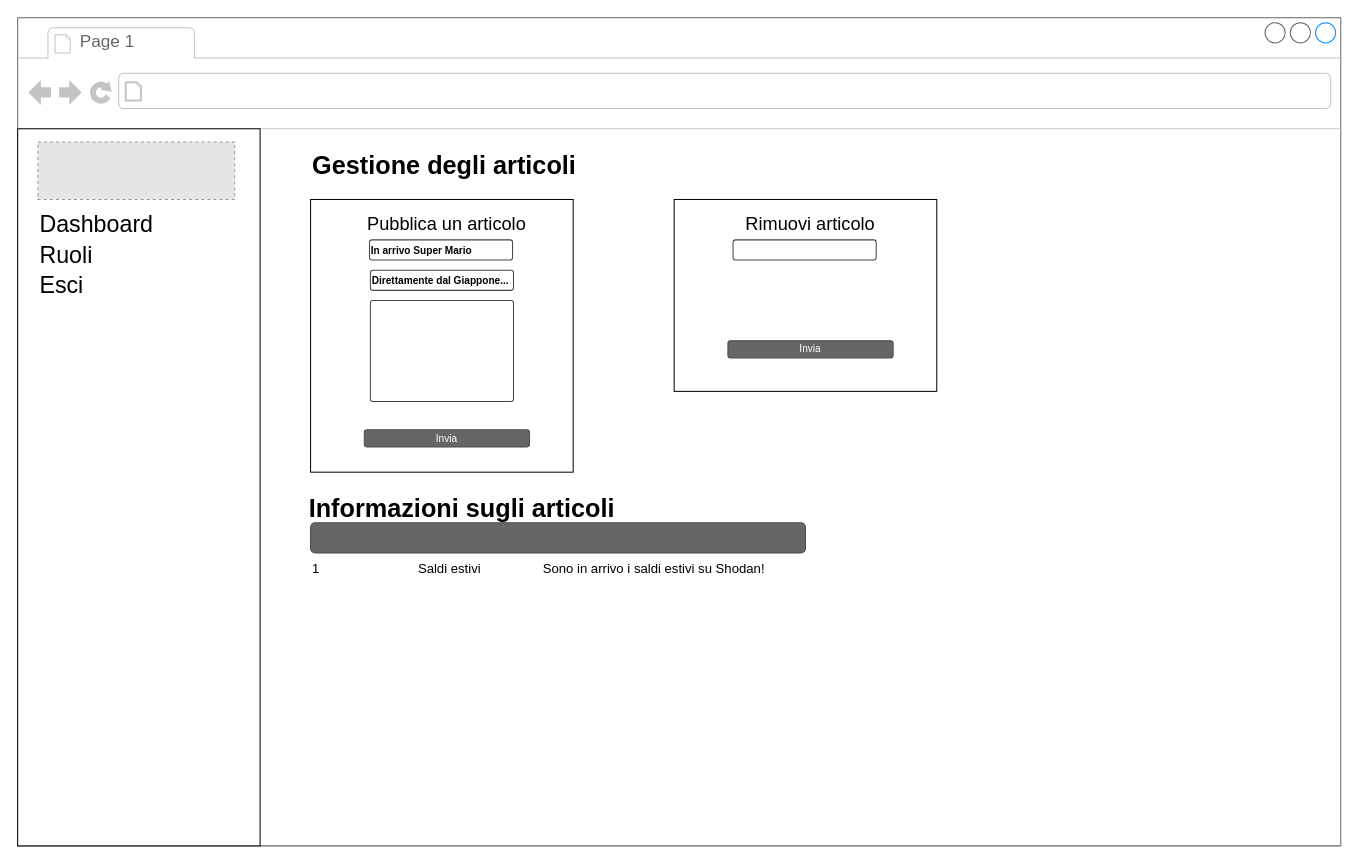
The diagram is 1358 pixels wide and 864 high, and some of its shapes have lost their labels. Grey dashed boxes stand in for pictures. Each missing label, with the centre of its shape:
"https://www.default.com" belongs at [274,91].
"ID articolo Titolo articolo Sottotitolo articolo" belongs at [557,537].
"Il franchise-cult cha ha fatto innamorare tanti ..." belongs at [441,350].
